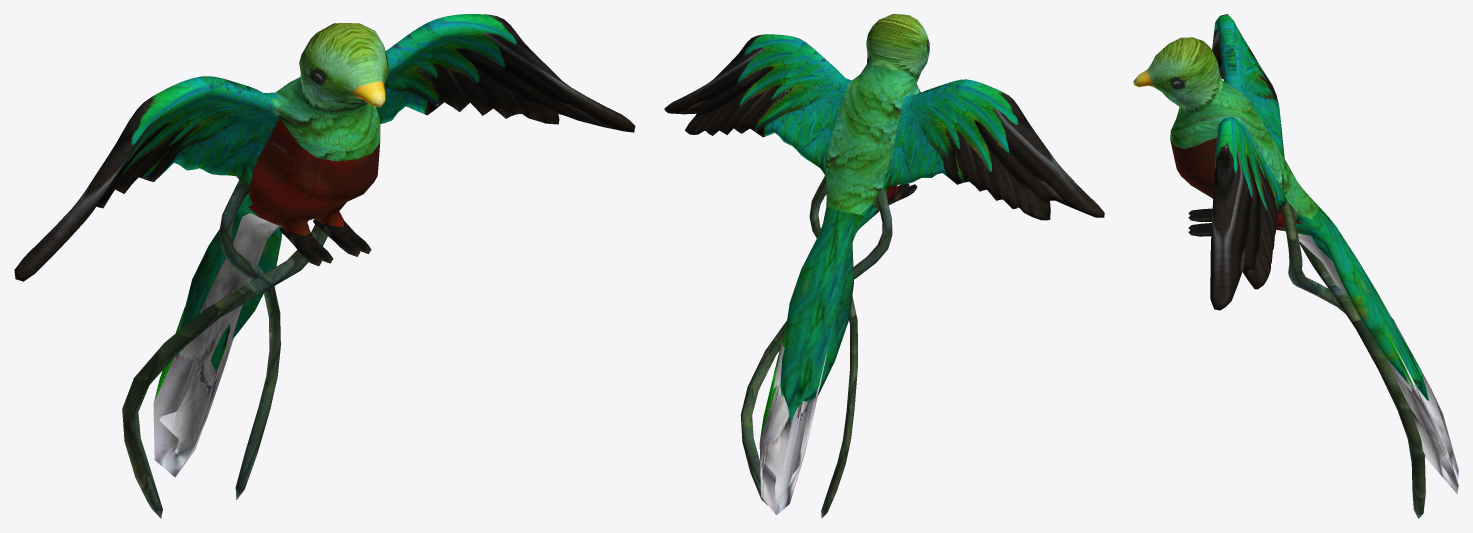
The model's file is QuetzalModel_01.FBX.
3 views of the same model, side by side, from view 1: azimuth 30°, elevation 25°; view 2: azimuth 150°, elevation 25°; view 3: azimuth 270°, elevation 25° (orthographic). The views are drawn at different scales.
Visible parts, largest first — view 1: Box001; view 2: Box001; view 3: Box001.
Part boxes in pixels (x1,y1,x2,y2): Box001: [14, 14, 635, 518]; Box001: [664, 14, 1104, 518]; Box001: [1133, 14, 1458, 518].
Size of the model in its own units: 65.35 by 59.63 by 37.93.
Materials: 1 (1 with a texture image).
